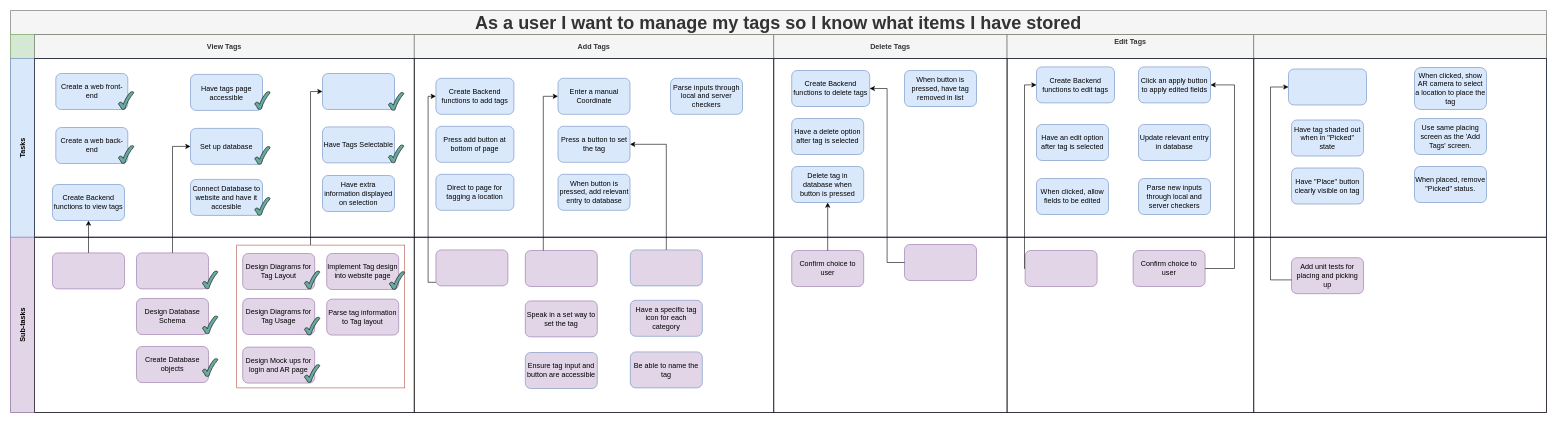
Some shapes in this 1557 by 423 pixel diagram are drawn without their labels. Here are the shapes that lost their labels. From the top down, the centre of each, then its label:
the point at 1399,46: Place Tags
the point at 358,91: Display tags as a list
the point at 1327,86: Create Backend functions to place and pickup tags
the point at 88,270: Add unit tests for Viewing
the point at 172,270: Decide Database software
the point at 471,267: Add unit tests for Adding
the point at 561,268: Automated Coordinate Retriever
the point at 666,267: Have a set number of tag categories to choose
the point at 940,262: Add unit tests for deleting
the point at 1060,268: Add unit tests for editing
